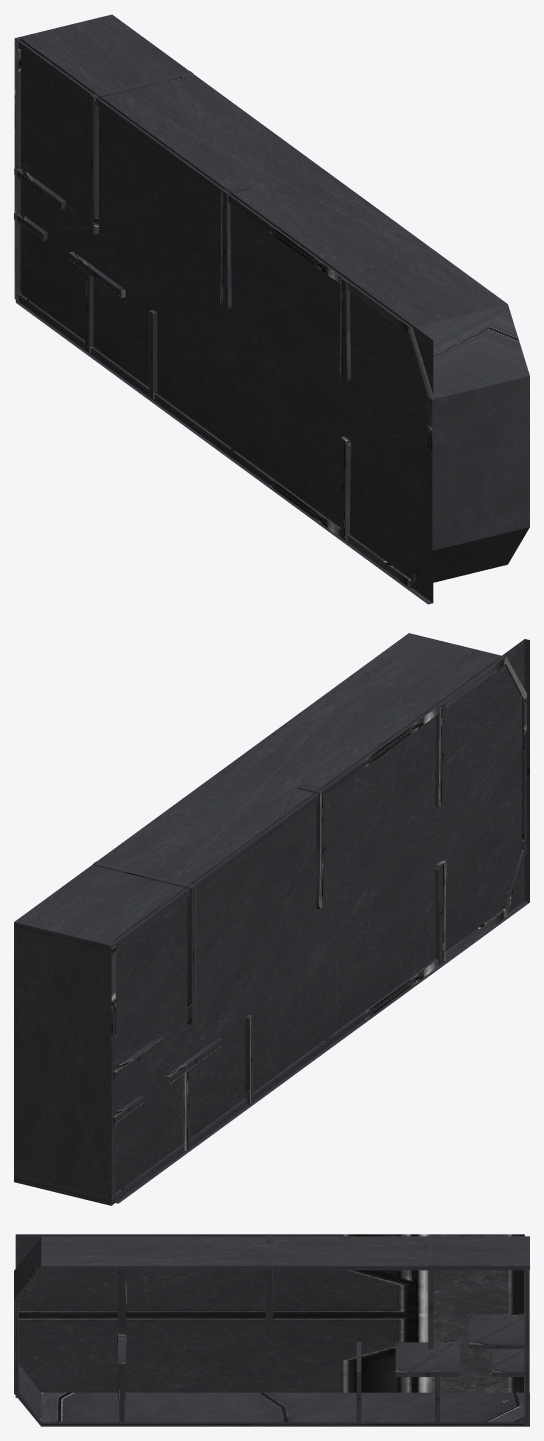
Rendered from SpaceshipInterior.fbx.
3 renders of one model, top to bottom at view 1: azimuth 30°, elevation 25°; view 2: azimuth 150°, elevation 25°; view 3: azimuth 270°, elevation 25°, orthographic. The views are drawn at different scales.
Parts seen in each view (by area): view 1: Cube.003; view 2: Cube.003; view 3: Cube.003.
Part boxes in pixels (x1,y1,x2,y2): Cube.003: [14, 14, 529, 604]; Cube.003: [14, 633, 529, 1205]; Cube.003: [14, 1234, 529, 1426].
Bounding box in the file's own units: 1829 × 4569 × 13163.
